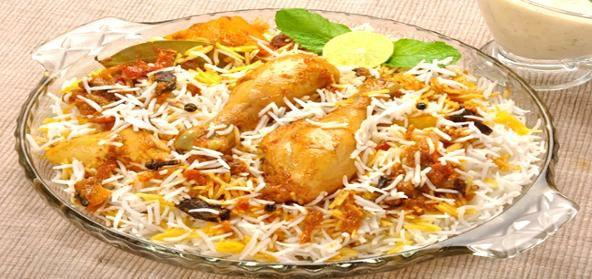Biryani: (26, 8, 546, 265)
